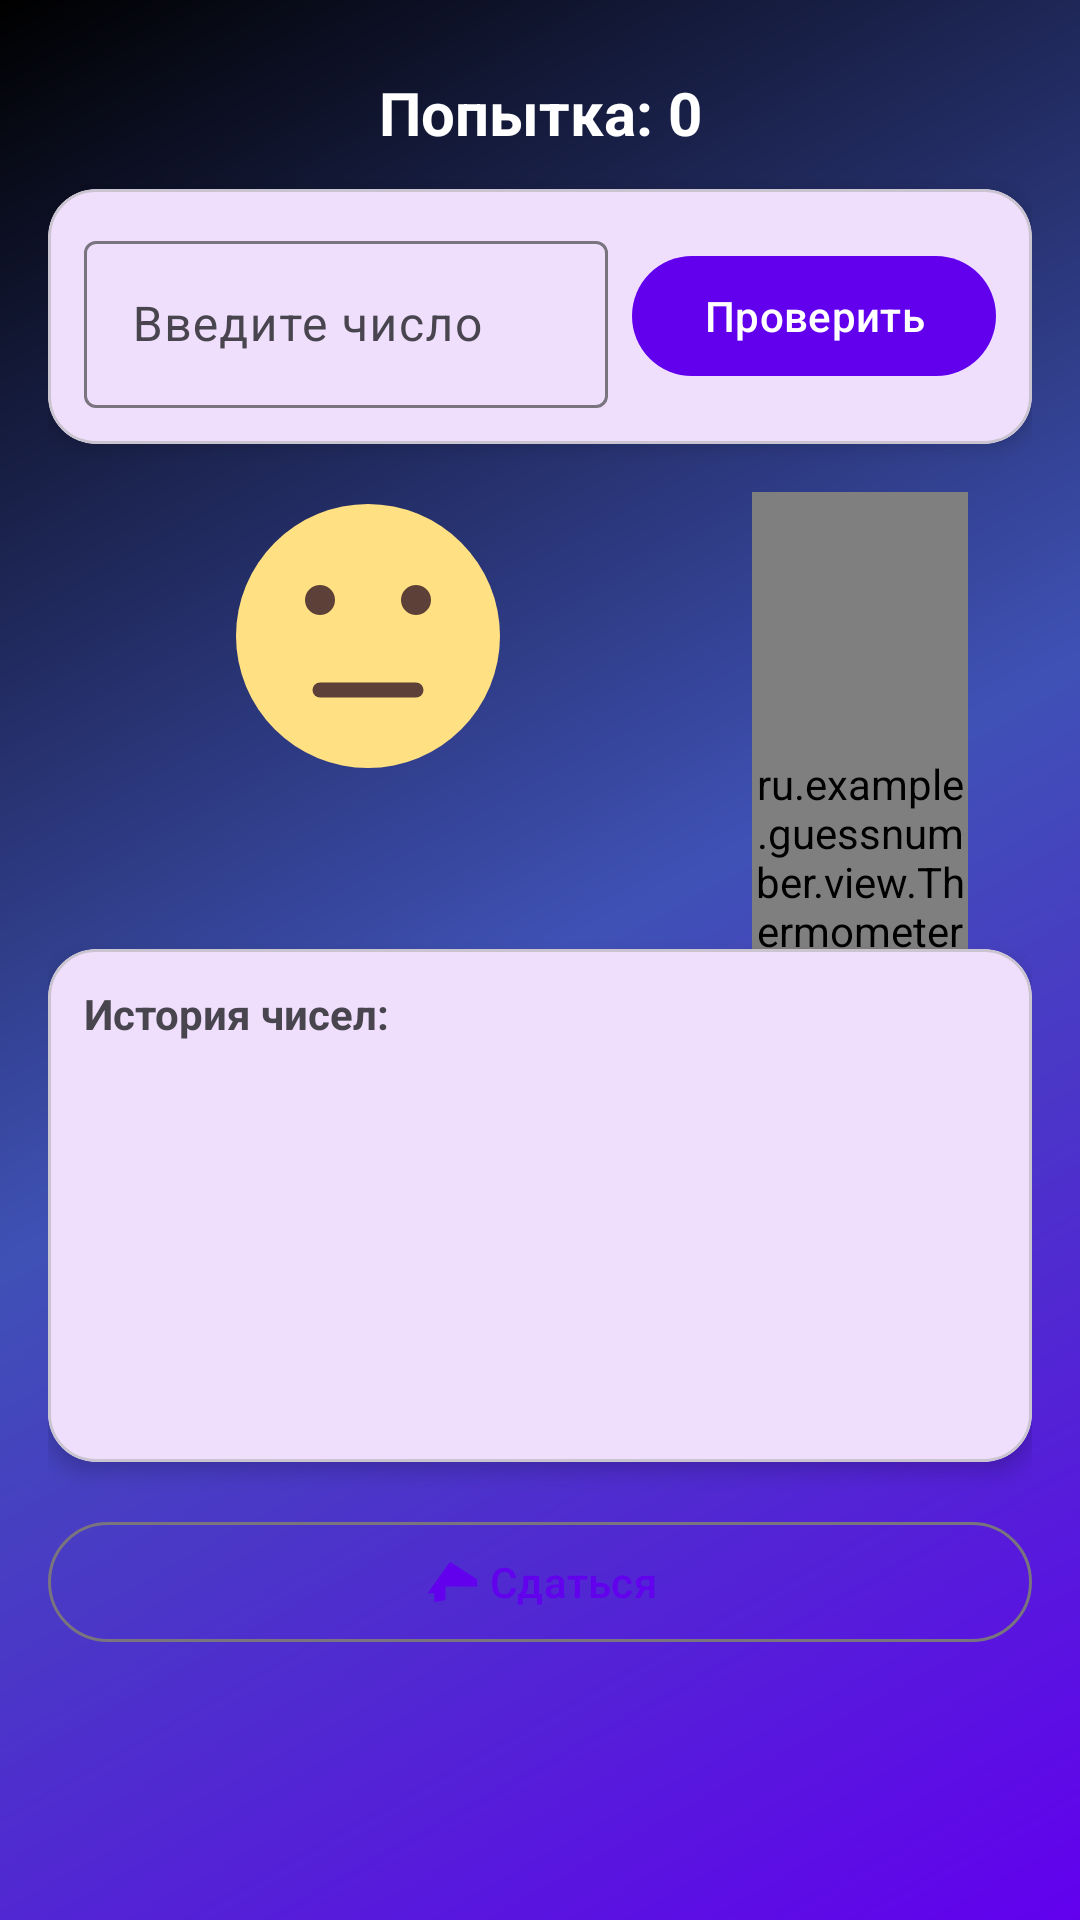

Icon click points for this 1080 x 1920 phone screenshot, format point (x, y):
Смайлик-подсказка: point (368, 636)
